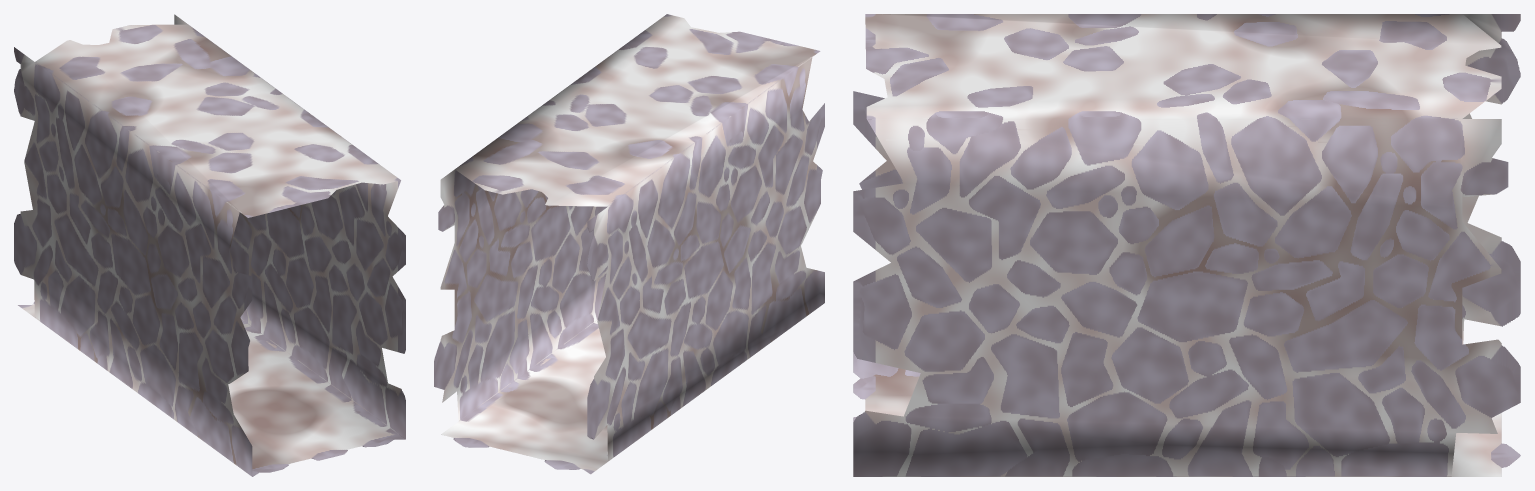
Rendered from Parede_Meio.fbx.
The picture shows the model from 3 angles, left to right: view 1: azimuth 30°, elevation 25°; view 2: azimuth 150°, elevation 25°; view 3: azimuth 270°, elevation 25°; orthographic projection. The views are drawn at different scales.
Parts seen in each view (by area): view 1: Parede_MEIO.L; view 2: Parede_MEIO.L; view 3: Parede_MEIO.L.
Part boxes in pixels (x1,y1,x2,y2): Parede_MEIO.L: (14,14,405,476); Parede_MEIO.L: (434,14,824,474); Parede_MEIO.L: (853,14,1520,476).
Bounding box in the file's own units: 42.15 × 67.05 × 113.
